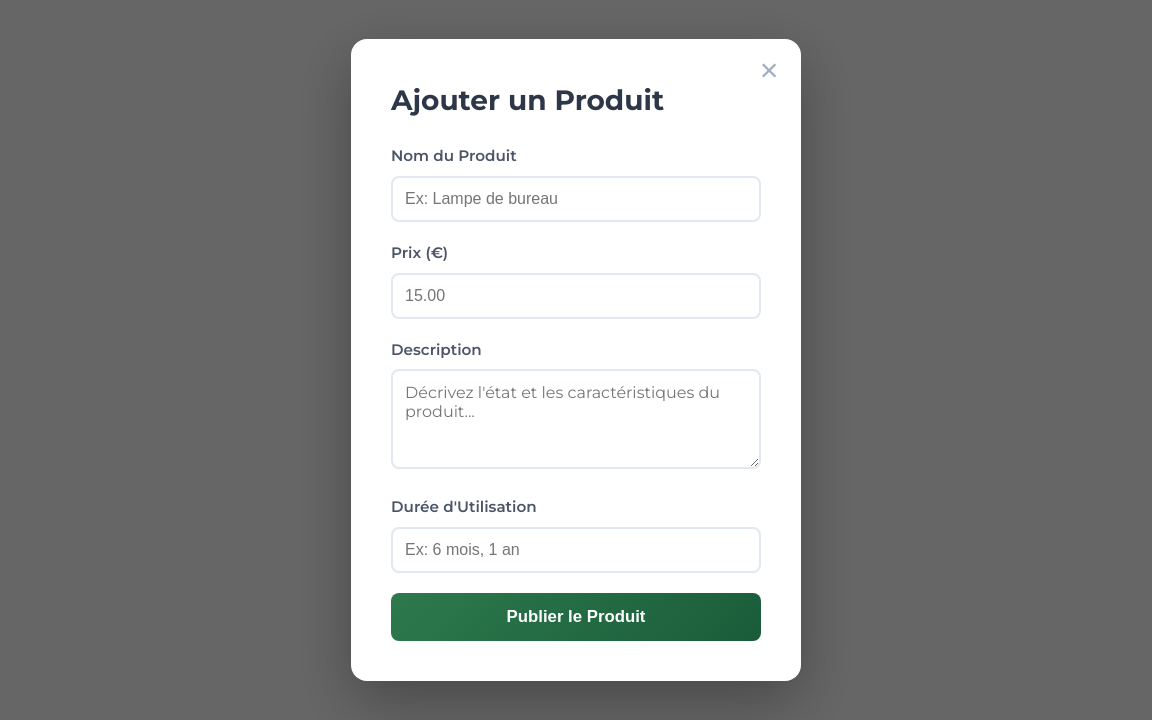
it: AddProductModal Component › disables submit button while loading
The width and height of the screenshot is (1152, 720).
Step 1. Type "Desk Lamp" into the field with placeholder "Ex: Lampe de bureau" → {"x": 576, "y": 199}, box [391,176,761,222]
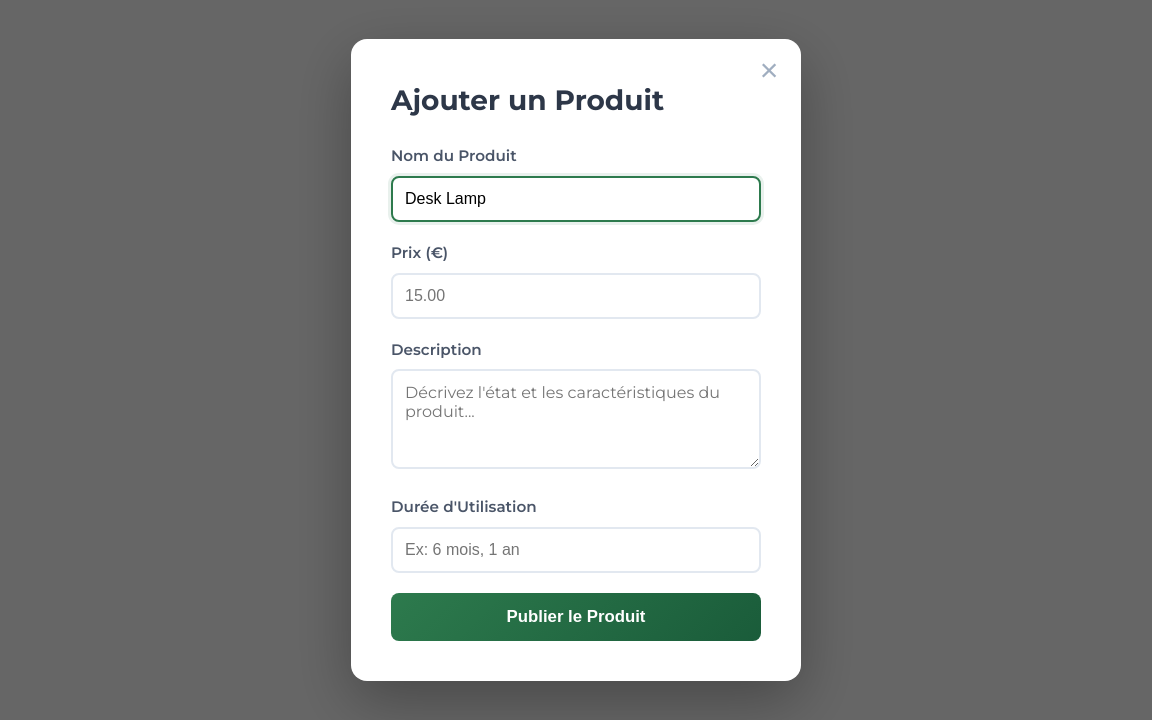
Step 2. Type "25.50" into the number field with placeholder "15.00" → {"x": 576, "y": 296}, box [391,272,761,318]
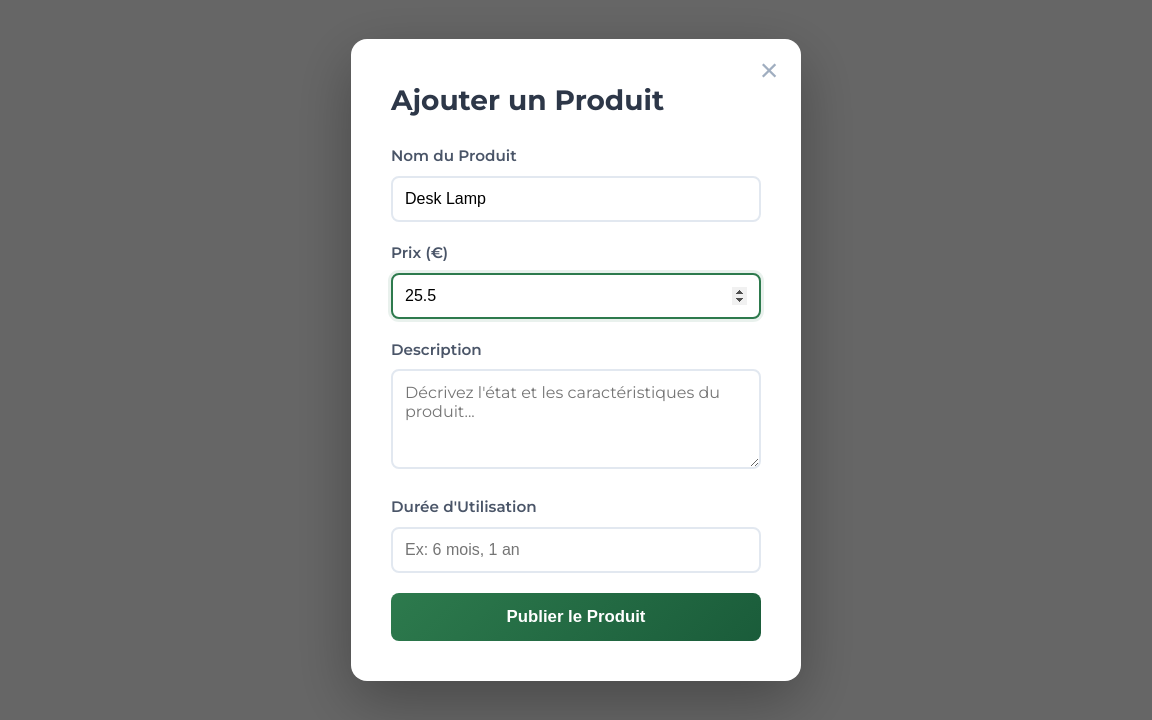
Step 3. Type "Good condition" into the text box with placeholder "Décrivez l'état et les caractéristiques du produit..." → {"x": 576, "y": 419}, box [391,369,761,469]
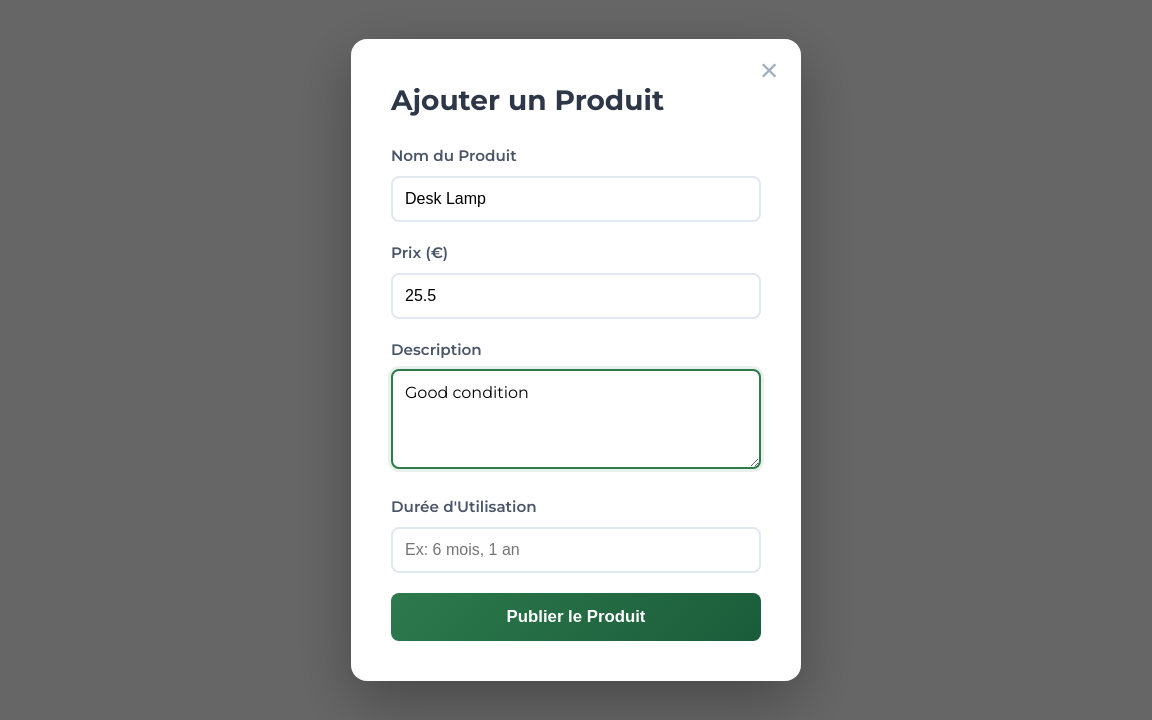
Step 4. Type "6 mois" into the field with placeholder "Ex: 6 mois, 1 an" → {"x": 576, "y": 550}, box [391,527,761,573]
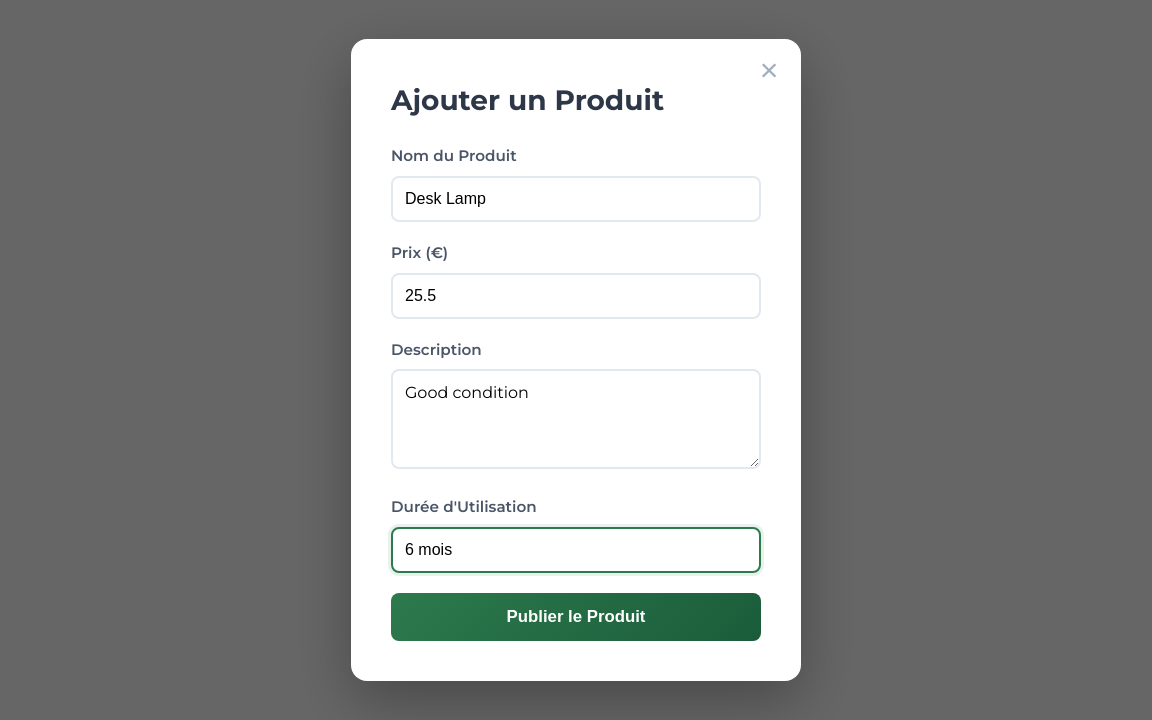
Step 5. Click the button "Publier le Produit" → {"x": 576, "y": 617}, box [391,593,761,641]
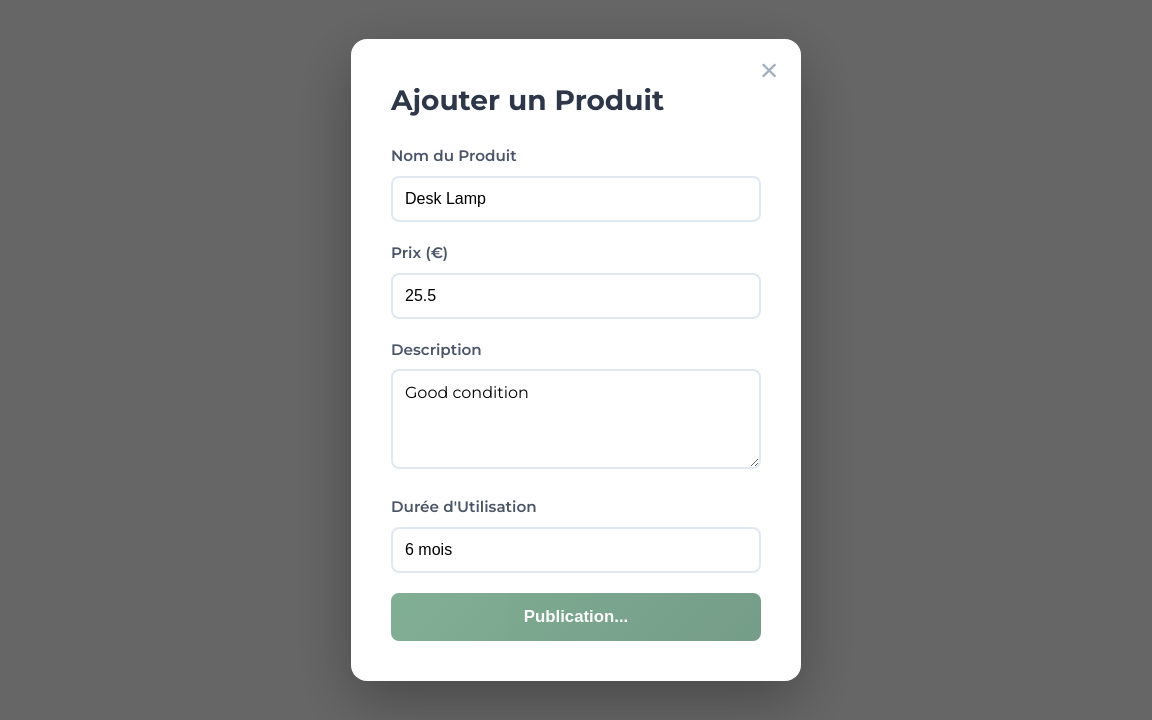
Result: the button "Publication..." is disabled at [391,593,761,641]
